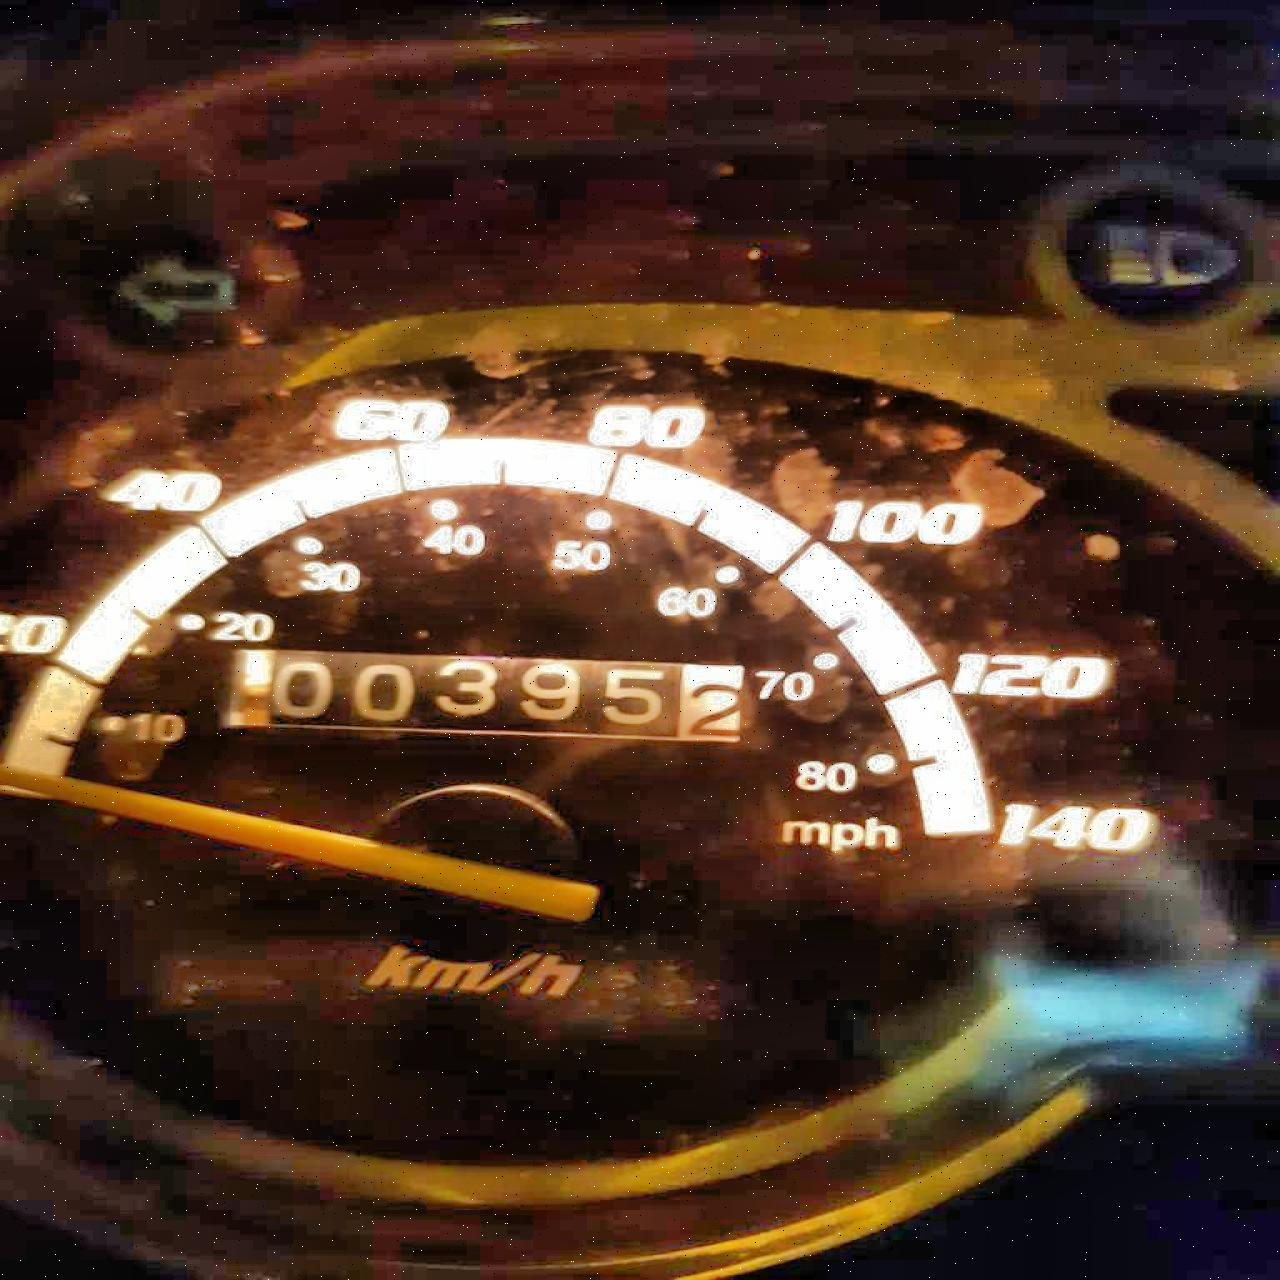0: (350, 660, 415, 722), (267, 658, 333, 719)
2: (685, 681, 743, 737)
3: (434, 656, 498, 716)
5: (598, 665, 665, 726)
9: (517, 660, 581, 721)
odometer: (213, 639, 758, 751)
